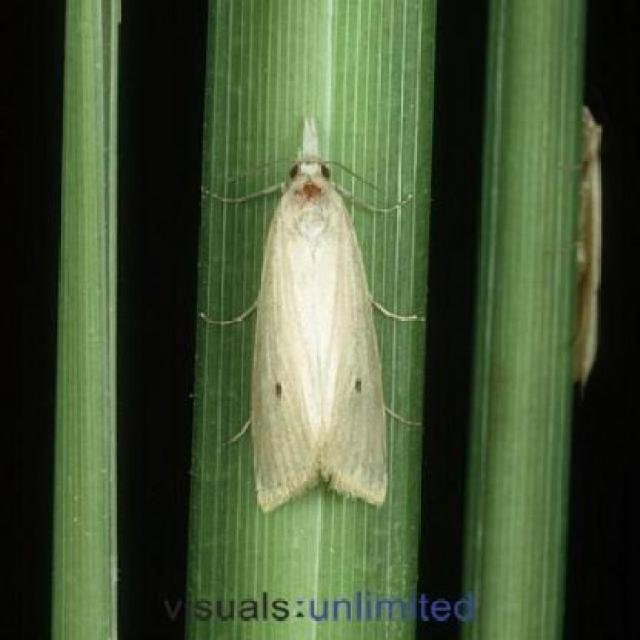stem-borer: (231, 109, 400, 517)
